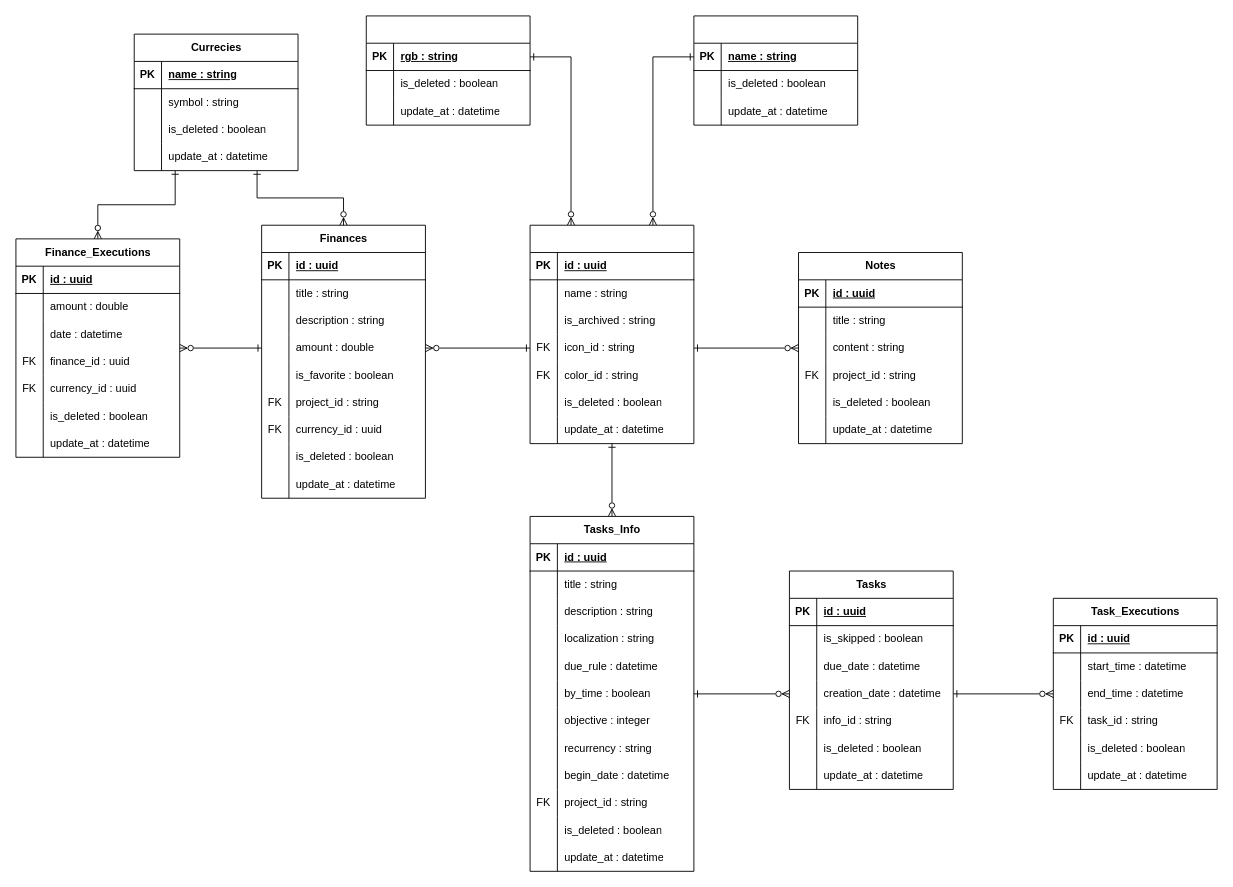
This 1233x887 diagram has some shape labels left out. Each missing label, with the box of its shape:
Colors: (365, 15, 530, 125)
Icons: (693, 15, 858, 125)
Projects: (529, 224, 694, 444)
